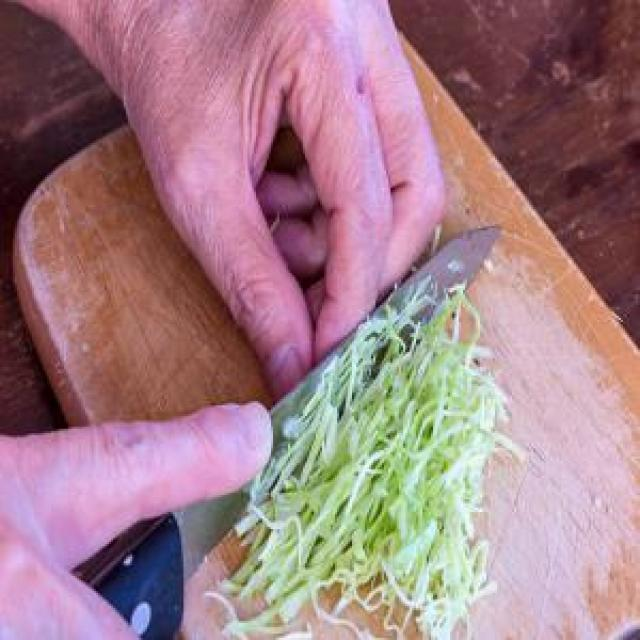knife: (68, 222, 506, 638)
